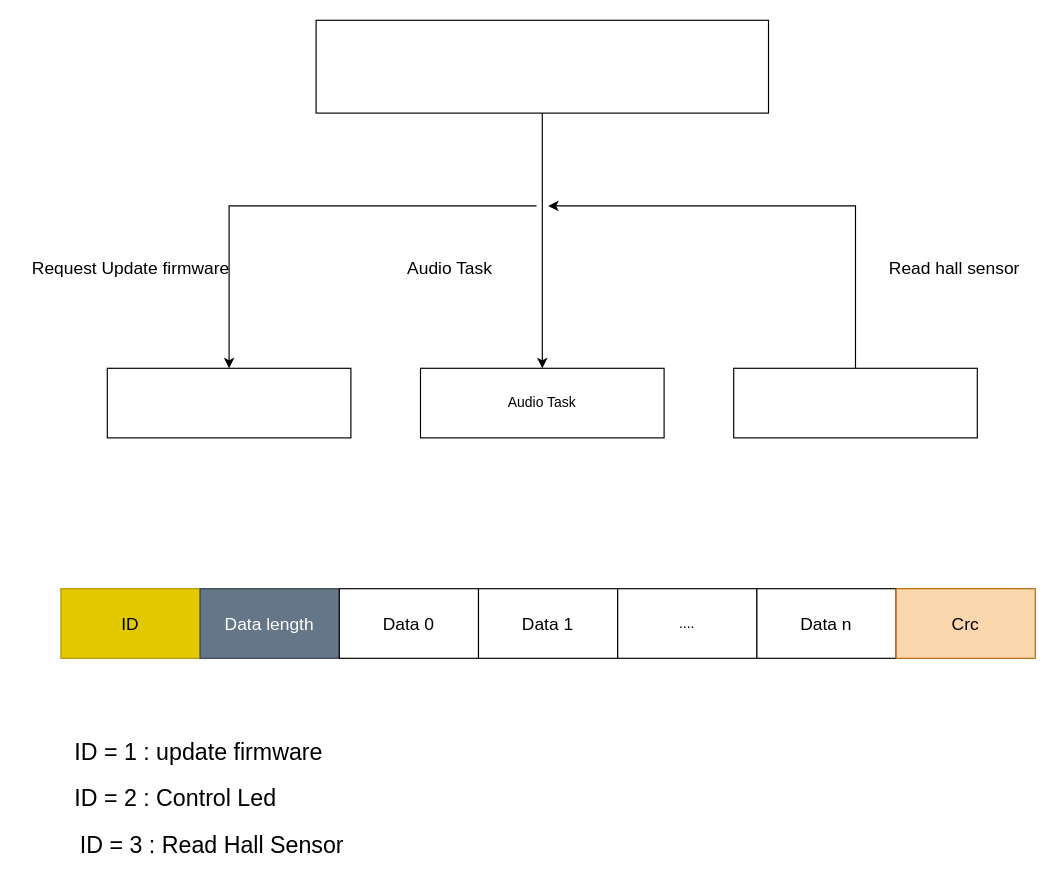
Some shapes in this 1056 by 887 pixel diagram are drawn without their labels. Here are the shapes that lost their labels. From the top down, the centre of each, then its label:
[541,66]: USB CDC
[228,402]: Update firmware
[855,402]: Hall sensor
